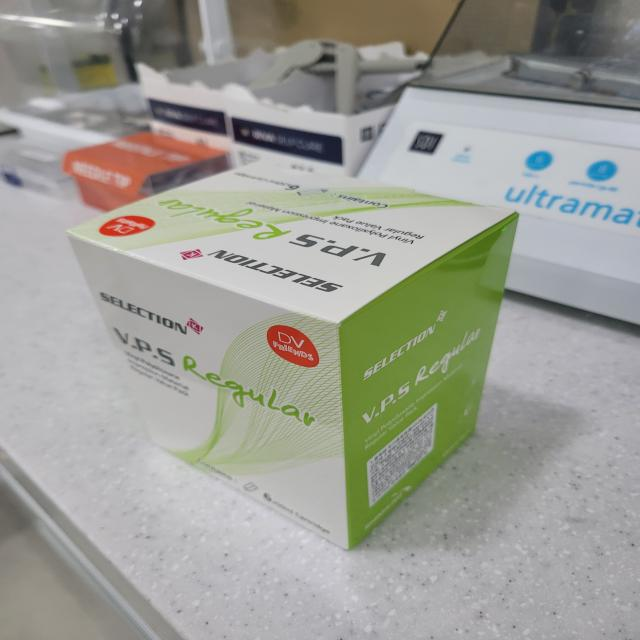impression: (34, 141, 544, 584)
